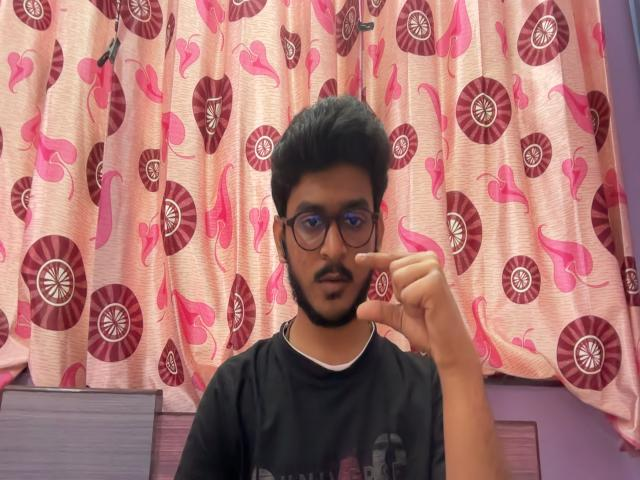No: (353, 241, 488, 385)
